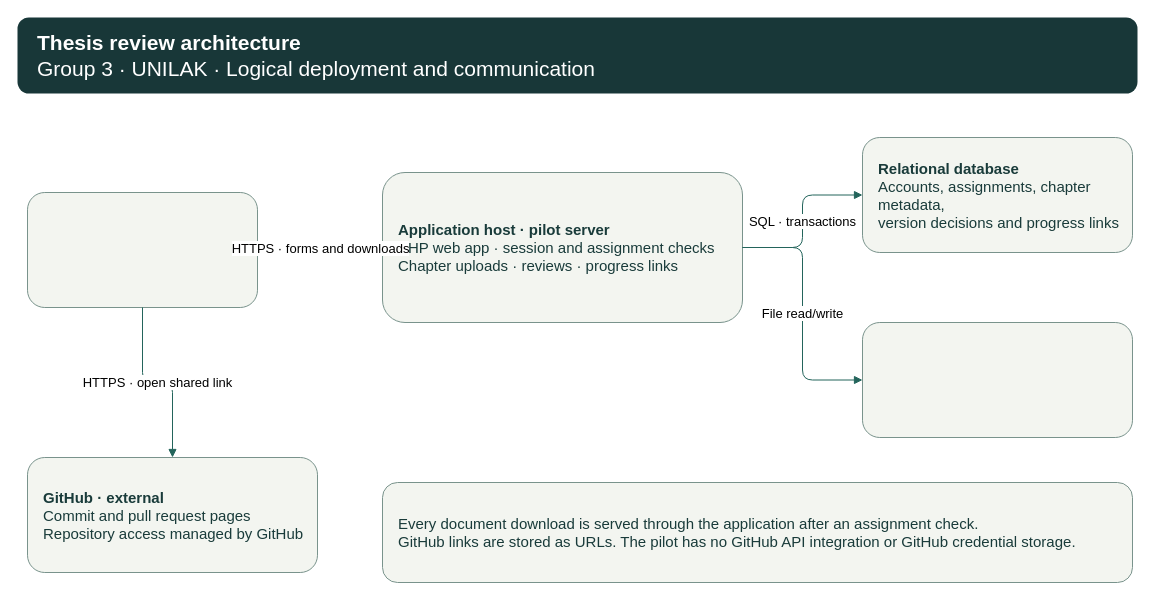
This 1154x600 diagram has some shape labels left out. The shapes that lost their labels are listed below. From the top down, each one's centre as x and y in pixels, then its label:
At point 142,250: "Browser Student and assigned supervisor Responsive workspace".
At point 997,380: "Private file storage PDF and DOCX versions Outside the public web directory".
